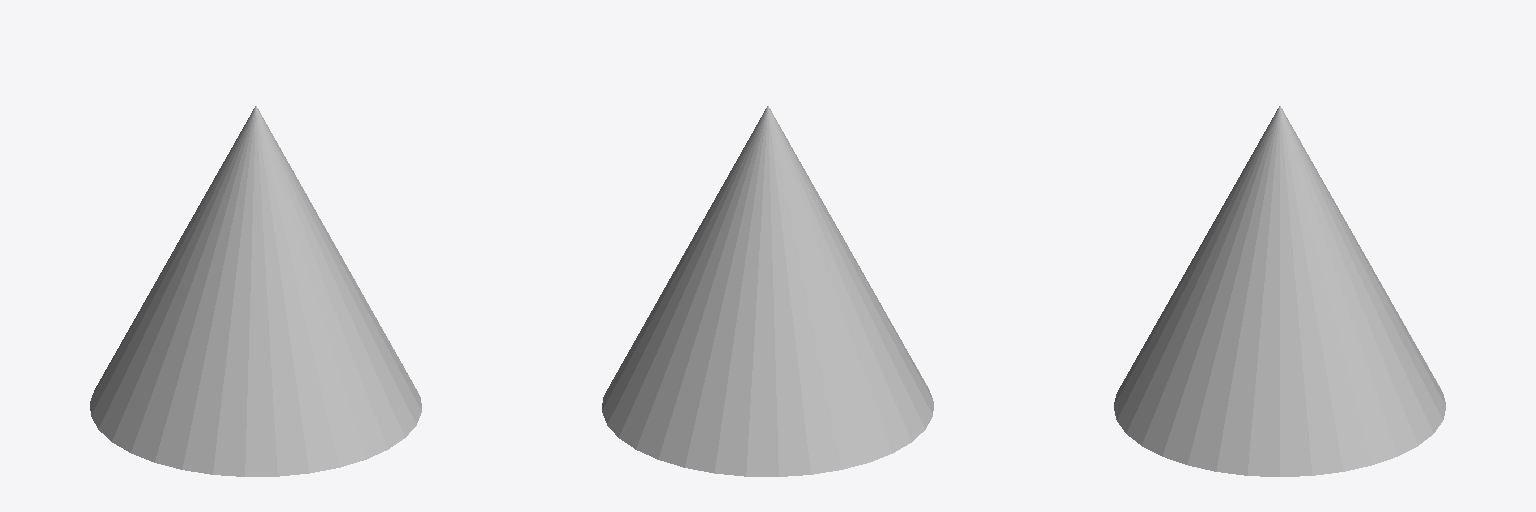
Rendered from Party.obj.
3 renders of one model, left to right at view 1: azimuth 30°, elevation 25°; view 2: azimuth 150°, elevation 25°; view 3: azimuth 270°, elevation 25°, orthographic.
Parts seen in each view (by area): view 1: Handle1; view 2: Handle1; view 3: Handle1.
Part boxes in pixels (bbox=[...]): Handle1: bbox=[90, 106, 421, 476]; Handle1: bbox=[602, 106, 933, 476]; Handle1: bbox=[1114, 106, 1445, 476].
Bounding box in the file's own units: 1.5 × 1.5 × 1.5.